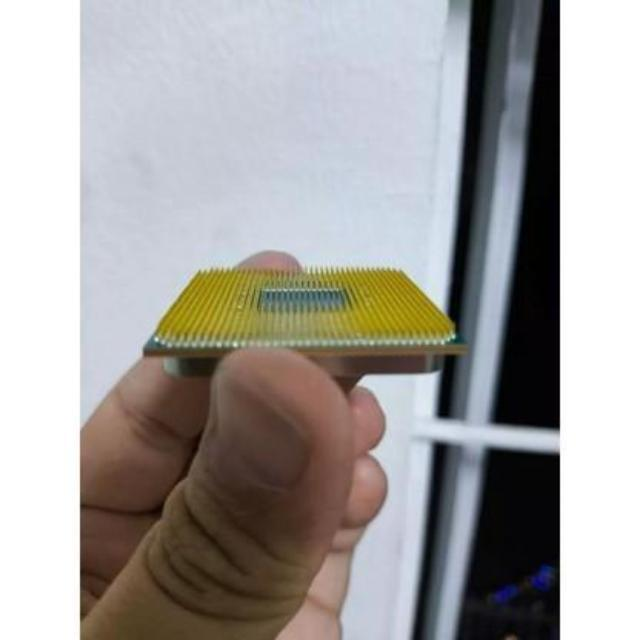CPU: (143, 262, 472, 380)
